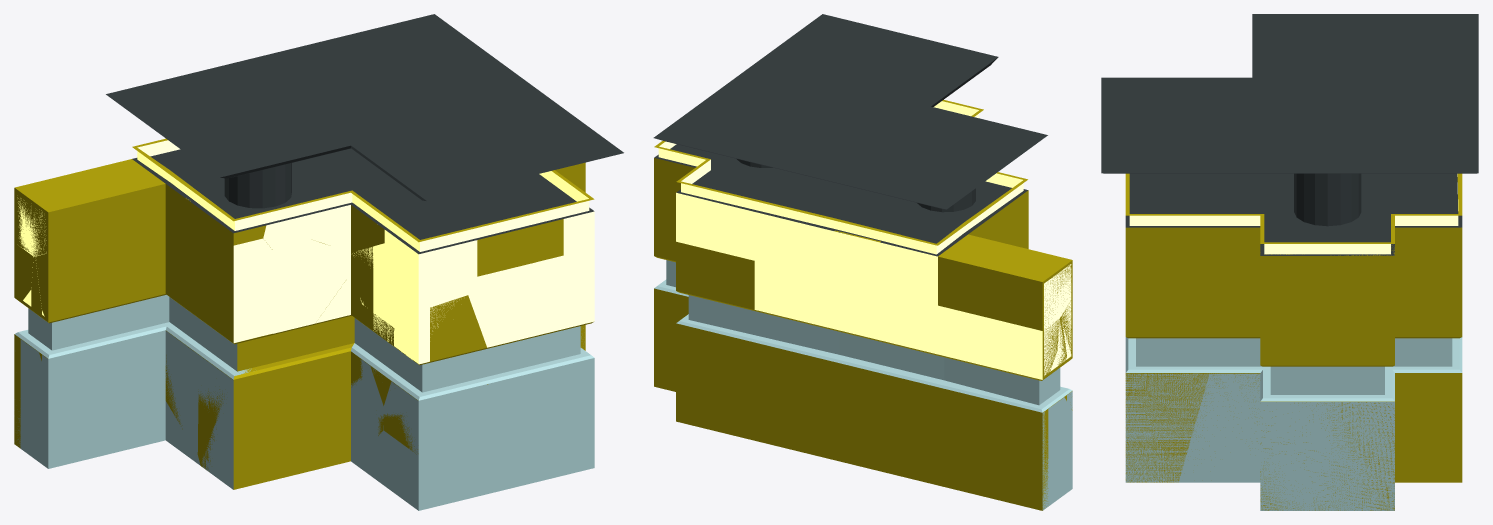
Rendered from OfficeVariant2.fbx.
The picture shows the model from 3 angles, left to right: view 1: azimuth 30°, elevation 25°; view 2: azimuth 150°, elevation 25°; view 3: azimuth 270°, elevation 25°; orthographic projection. The views are drawn at different scales.
Visible parts, largest first — view 1: Office, Office_cell.018, Office_cell.038, Office_cell.052, Office_cell.012, Office_cell.054, Office_cell.080, Office_cell.093, Office_cell.023, Office_cell.067, Office_cell.074, Office_cell.027 (+38 smaller); view 2: Office, Office_cell.018, Office_cell.065, Office_cell.040, Office_cell.015, Office_cell.104, Office_cell.073, Office_cell.107, Office_cell.082, Office_cell.025, Office_cell.027, Office_cell.086 (+16 smaller); view 3: Office, Office_cell.018, Office_cell.052, Office_cell.069, Office_cell.055, Office_cell.009, Office_cell.020, Office_cell.065, Office_cell.015, Office_cell.030, Office_cell.104, Office_cell.014 (+20 smaller).
Boxes of the visible parts, left/top/right/bottom form: Office: left=14, top=31, right=623, bottom=508; Office_cell.018: left=132, top=148, right=594, bottom=254; Office_cell.038: left=197, top=326, right=295, bottom=489; Office_cell.052: left=509, top=290, right=594, bottom=476; Office_cell.012: left=468, top=255, right=585, bottom=397; Office_cell.054: left=356, top=432, right=558, bottom=510; Office_cell.080: left=288, top=325, right=383, bottom=474; Office_cell.093: left=31, top=244, right=112, bottom=379; Office_cell.023: left=101, top=307, right=207, bottom=429; Office_cell.067: left=383, top=376, right=515, bottom=455; Office_cell.074: left=272, top=238, right=350, bottom=348; Office_cell.027: left=111, top=140, right=593, bottom=251; Office: left=654, top=14, right=1072, bottom=510; Office_cell.018: left=654, top=144, right=1027, bottom=255; Office_cell.065: left=741, top=147, right=903, bottom=194; Office_cell.040: left=887, top=414, right=1032, bottom=508; Office_cell.015: left=838, top=26, right=942, bottom=71; Office_cell.104: left=743, top=99, right=835, bottom=150; Office_cell.073: left=766, top=77, right=868, bottom=125; Office_cell.107: left=780, top=120, right=890, bottom=152; Office_cell.082: left=766, top=67, right=872, bottom=98; Office_cell.025: left=977, top=379, right=1062, bottom=504; Office_cell.027: left=672, top=100, right=1027, bottom=259; Office_cell.086: left=887, top=182, right=968, bottom=209; Office: left=1101, top=14, right=1477, bottom=510; Office_cell.018: left=1125, top=173, right=1462, bottom=255; Office_cell.052: left=1125, top=281, right=1219, bottom=482; Office_cell.069: left=1197, top=215, right=1260, bottom=297; Office_cell.055: left=1125, top=215, right=1196, bottom=282; Office_cell.009: left=1385, top=351, right=1428, bottom=482; Office_cell.020: left=1215, top=296, right=1327, bottom=379; Office_cell.065: left=1429, top=46, right=1478, bottom=126; Office_cell.015: left=1101, top=108, right=1204, bottom=145; Office_cell.030: left=1395, top=280, right=1462, bottom=350; Office_cell.104: left=1328, top=106, right=1448, bottom=149; Office_cell.014: left=1327, top=292, right=1384, bottom=394.
Size of the model in its own units: 800 by 521 by 561.
